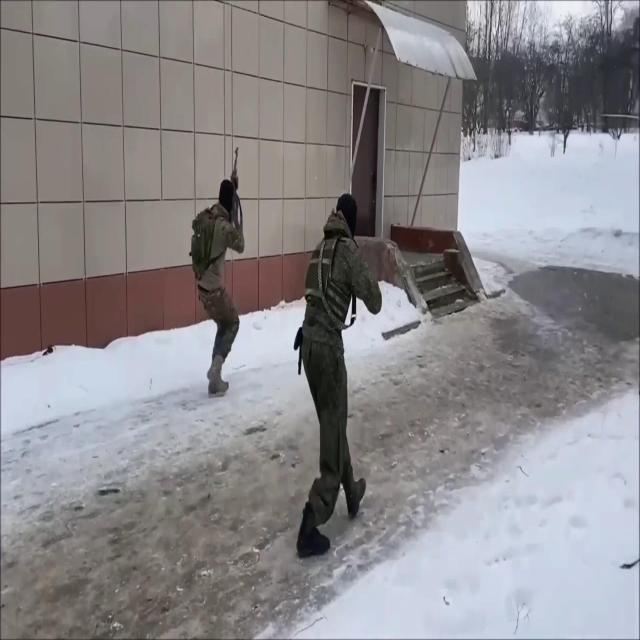gun: (294, 192, 383, 557), (190, 147, 247, 397), (225, 146, 242, 232)
